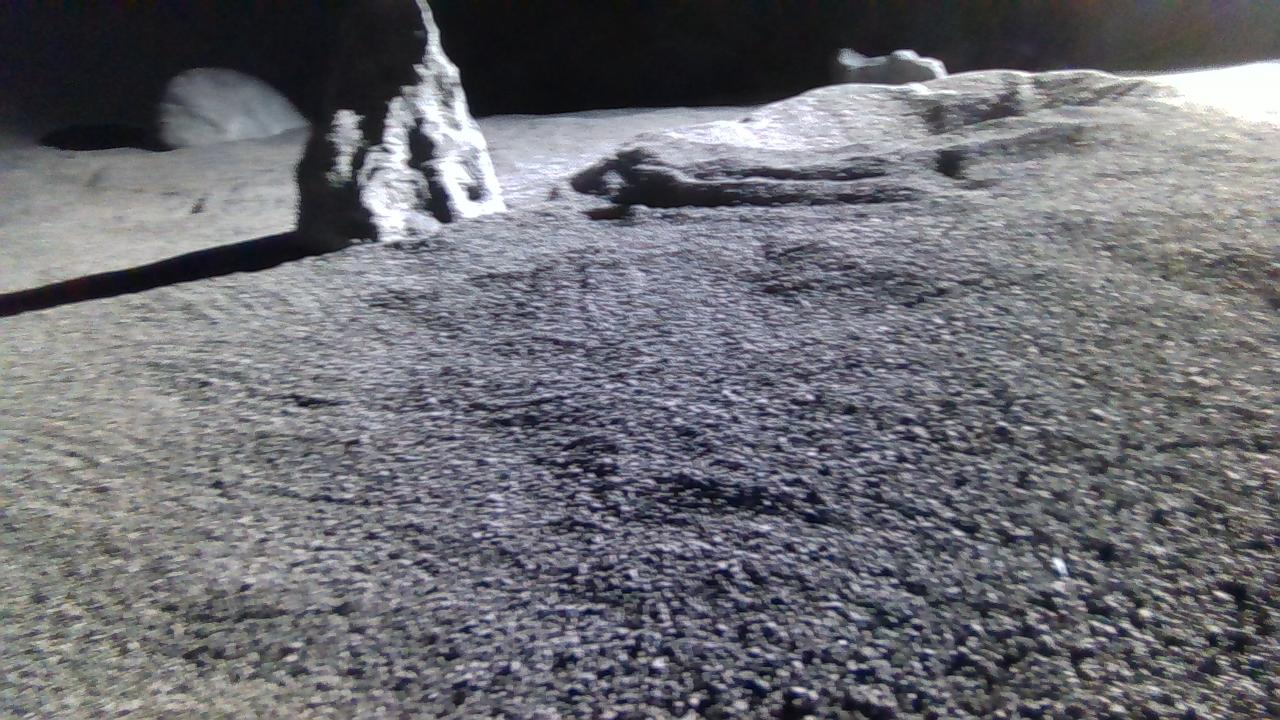rock: (297, 0, 506, 250), (156, 67, 307, 146), (833, 46, 949, 82)
